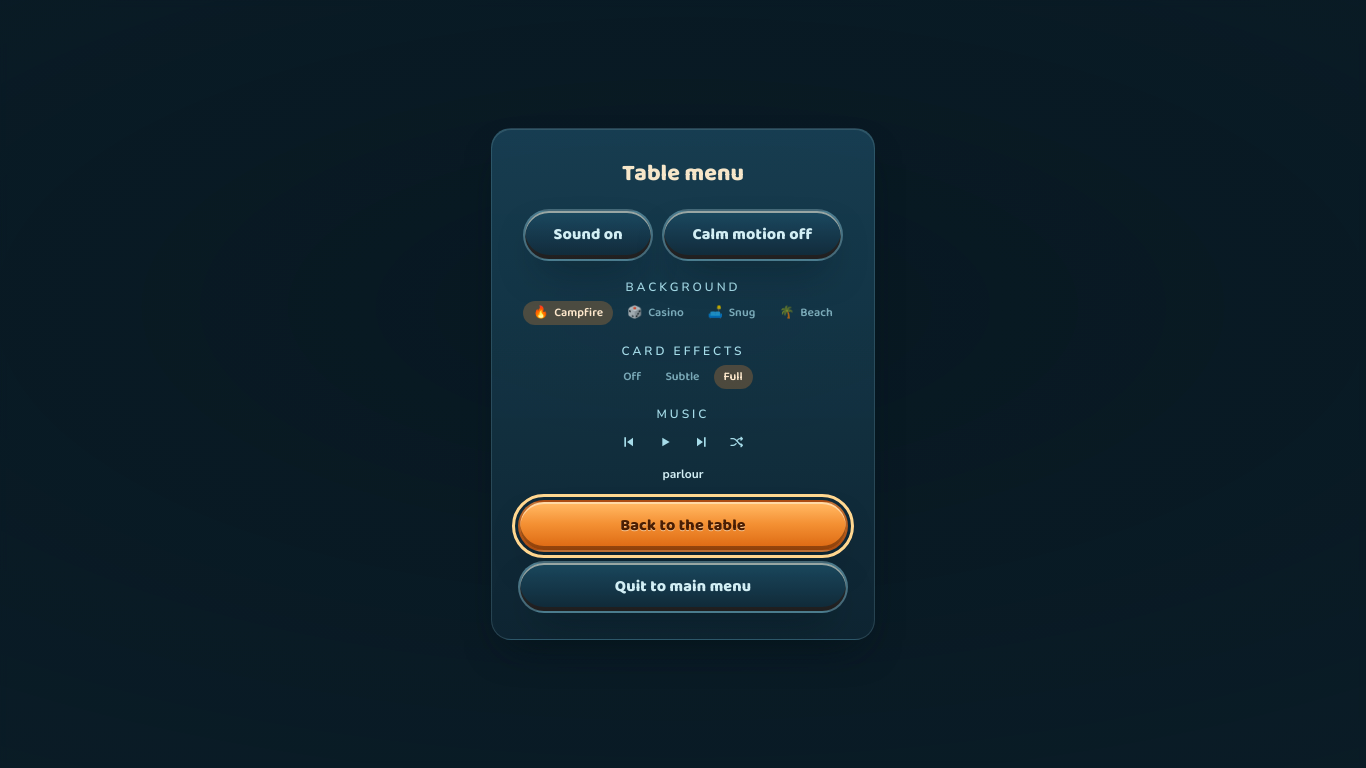
Test: TableMenu › plays music from the music section and reflects the state
Expected: the element with test id "music-section" is shown, x1=613 y1=406 x2=753 y2=482
Click the button with test id "music-toggle" at (665, 442), box x1=649 y1=426 x2=681 y2=458
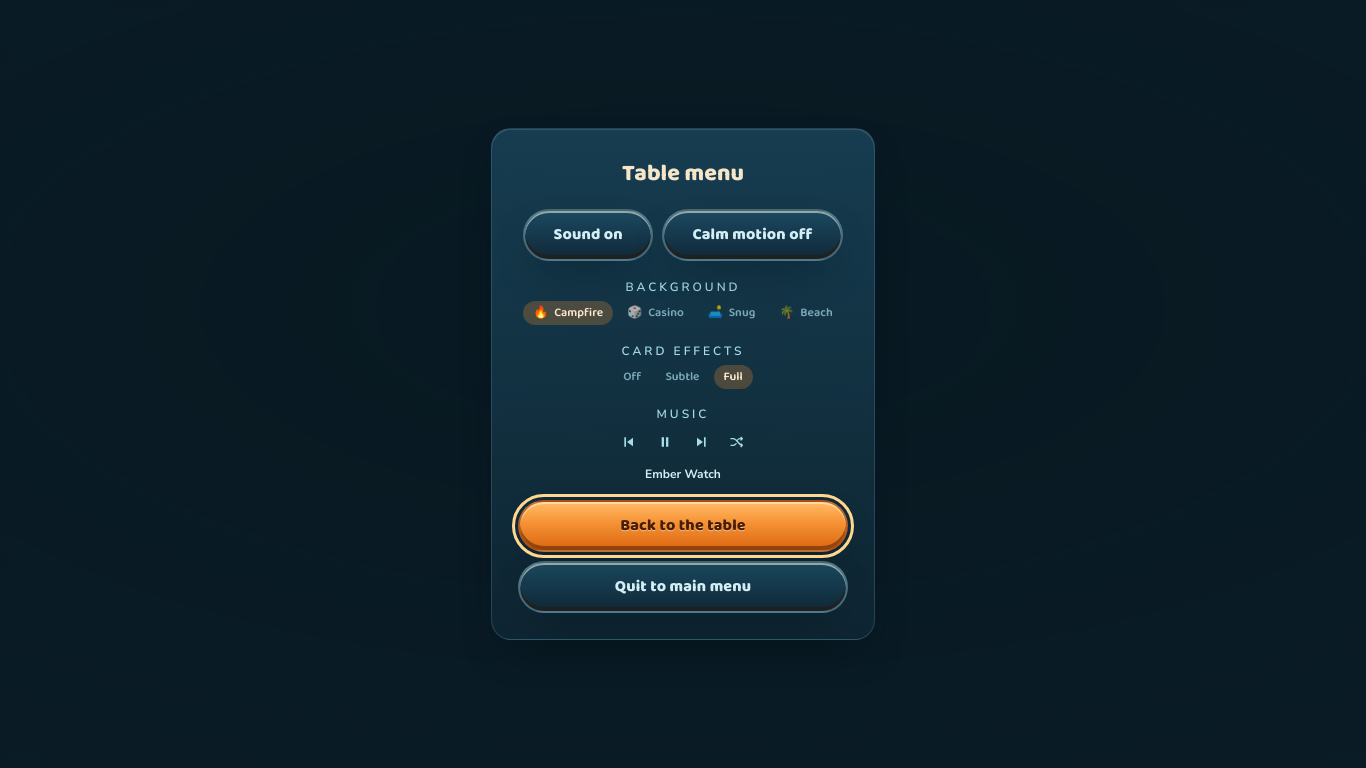
Result: the text with test id "music-track-title" reads "Ember Watch" at x1=645 y1=466 x2=721 y2=482
